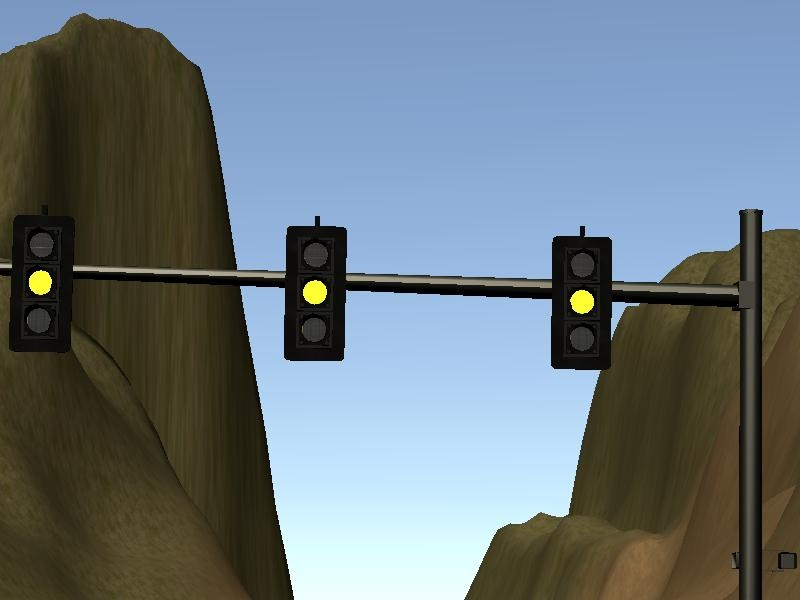YELLOW: (548, 230, 614, 372), (281, 220, 347, 362), (7, 212, 73, 354)
